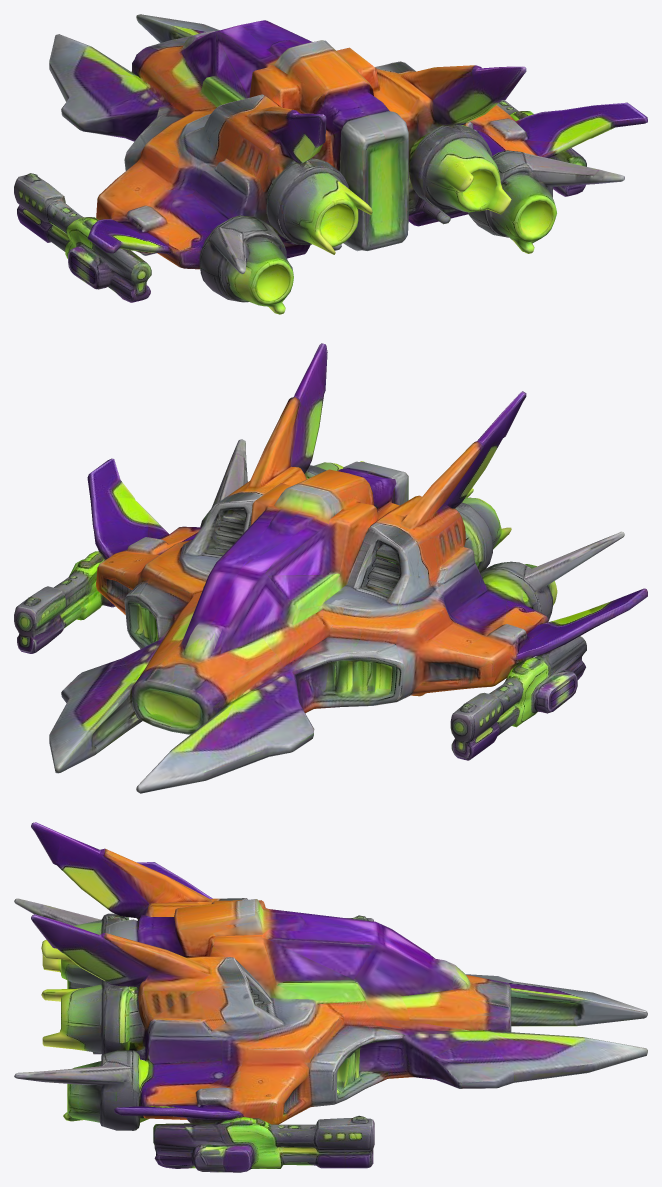
The model's file is dreadfly.glb.
3 views of the same model, one above another, from view 1: azimuth 30°, elevation 25°; view 2: azimuth 150°, elevation 25°; view 3: azimuth 270°, elevation 25° (orthographic). The views are drawn at different scales.
Parts seen in each view (by area): view 1: Mesh_0.062; view 2: Mesh_0.062; view 3: Mesh_0.062.
Part boxes in pixels (x1,y1,x2,y2): Mesh_0.062: (14,14,647,314); Mesh_0.062: (14,343,647,793); Mesh_0.062: (14,822,647,1172).
Bounding box in the file's own units: 1.77 × 0.6536 × 1.91.
Materials: 1 (1 with a texture image).
